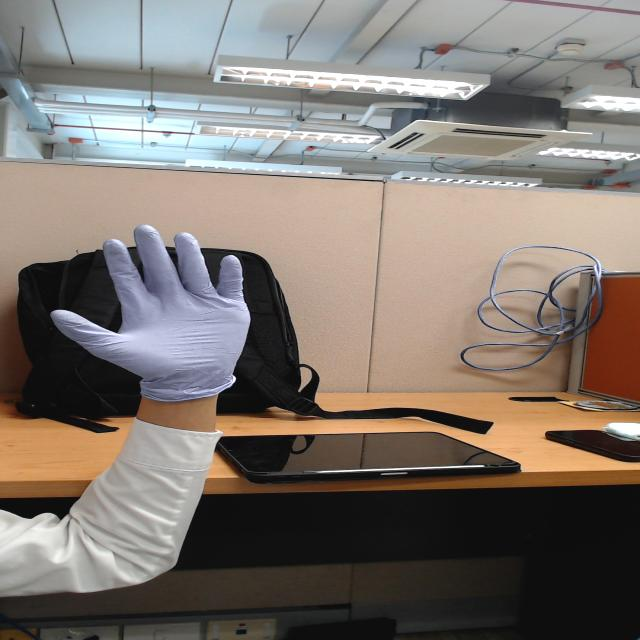glove: (35, 217, 252, 371)
